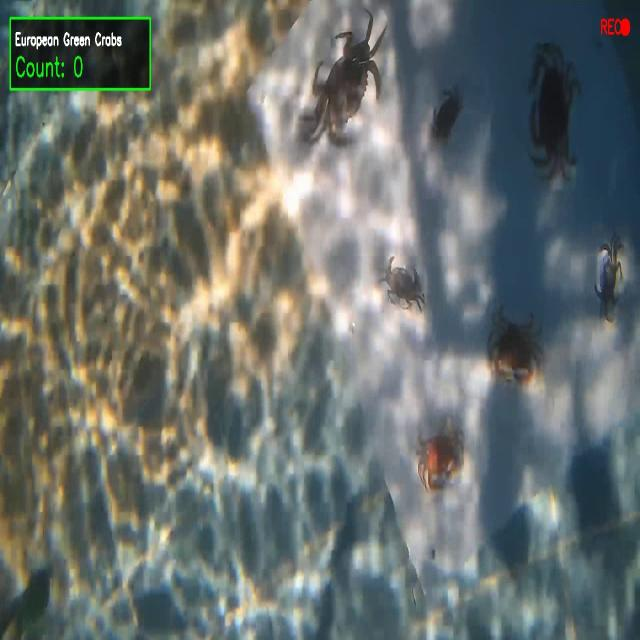European_Green_Crab: (290, 0, 407, 167), (372, 247, 439, 327), (591, 230, 629, 331)
